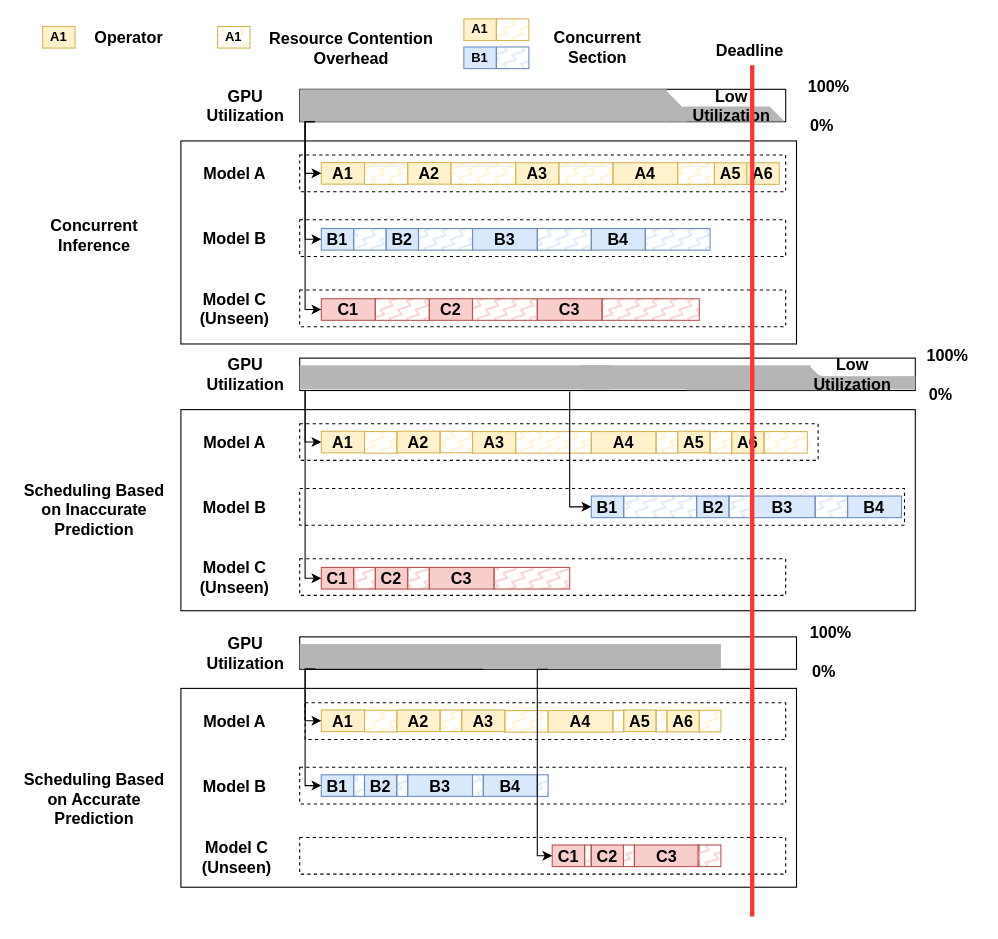
Some shapes in this 998 by 939 pixel diagram are drawn without their labels. Each missing label, with the centre of its shape:
"High GPU Utilization" goes at point 509,656.
"High Utilization" goes at point 455,377.
"Resource Contention" goes at point 482,105.
